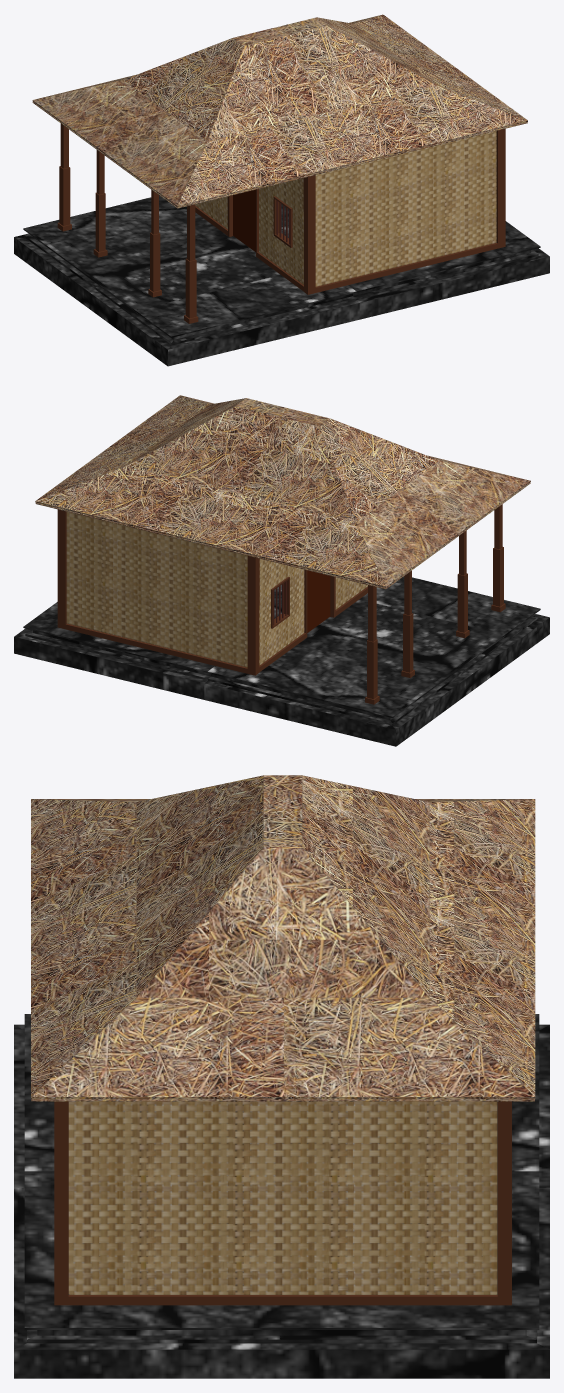
Rendered from Bangunan Bale Delod.fbx.
3 views of the same model, one above another, from view 1: azimuth 30°, elevation 25°; view 2: azimuth 150°, elevation 25°; view 3: azimuth 270°, elevation 25° (orthographic). The views are drawn at different scales.
Visible parts, largest first — view 1: Atap Bale Delod, Pondasi Bale Delod, Tiang Bale Delod, Pintu Bale Delod; view 2: Atap Bale Delod, Pondasi Bale Delod, Tiang Bale Delod, Pintu Bale Delod; view 3: Atap Bale Delod, Tiang Bale Delod, Pondasi Bale Delod.
Boxes of the visible parts, bbox=[...] form: Atap Bale Delod: bbox=[32, 14, 527, 208]; Pondasi Bale Delod: bbox=[14, 195, 549, 366]; Tiang Bale Delod: bbox=[57, 123, 505, 323]; Pintu Bale Delod: bbox=[233, 189, 255, 251]; Atap Bale Delod: bbox=[35, 395, 530, 589]; Pondasi Bale Delod: bbox=[14, 576, 549, 746]; Tiang Bale Delod: bbox=[57, 504, 505, 704]; Pintu Bale Delod: bbox=[307, 570, 330, 632]; Atap Bale Delod: bbox=[31, 775, 535, 1101]; Tiang Bale Delod: bbox=[54, 1101, 511, 1305]; Pondasi Bale Delod: bbox=[14, 1014, 549, 1378].
Bounding box in the file's own units: 14.57 × 8.46 × 10.17.
